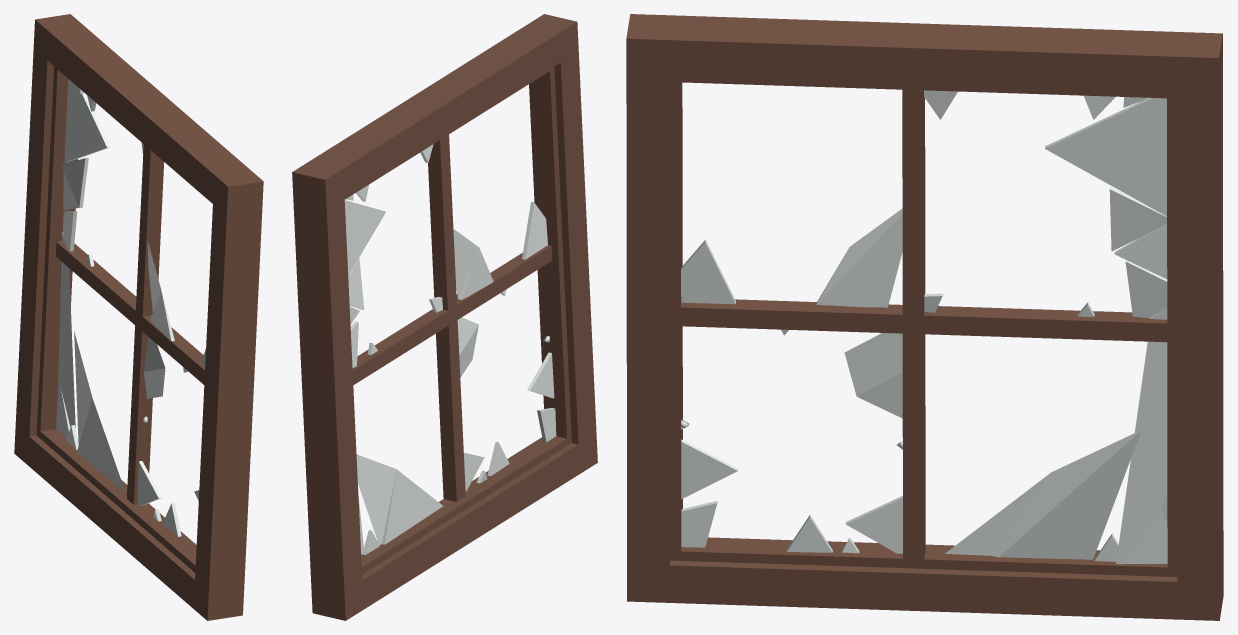
Rendered from broken_window.glb.
3 renders of one model, left to right at view 1: azimuth 30°, elevation 25°; view 2: azimuth 150°, elevation 25°; view 3: azimuth 270°, elevation 25°, orthographic. The views are drawn at different scales.
Visible parts, largest first — view 1: group1406604868; view 2: group1406604868; view 3: group1406604868.
Boxes of the visible parts, <box> form: group1406604868: <box>14,14,263,620</box>; group1406604868: <box>292,14,597,620</box>; group1406604868: <box>626,14,1223,620</box>.
Size of the model in its own units: 0.0375 by 0.1885 by 0.1759.
